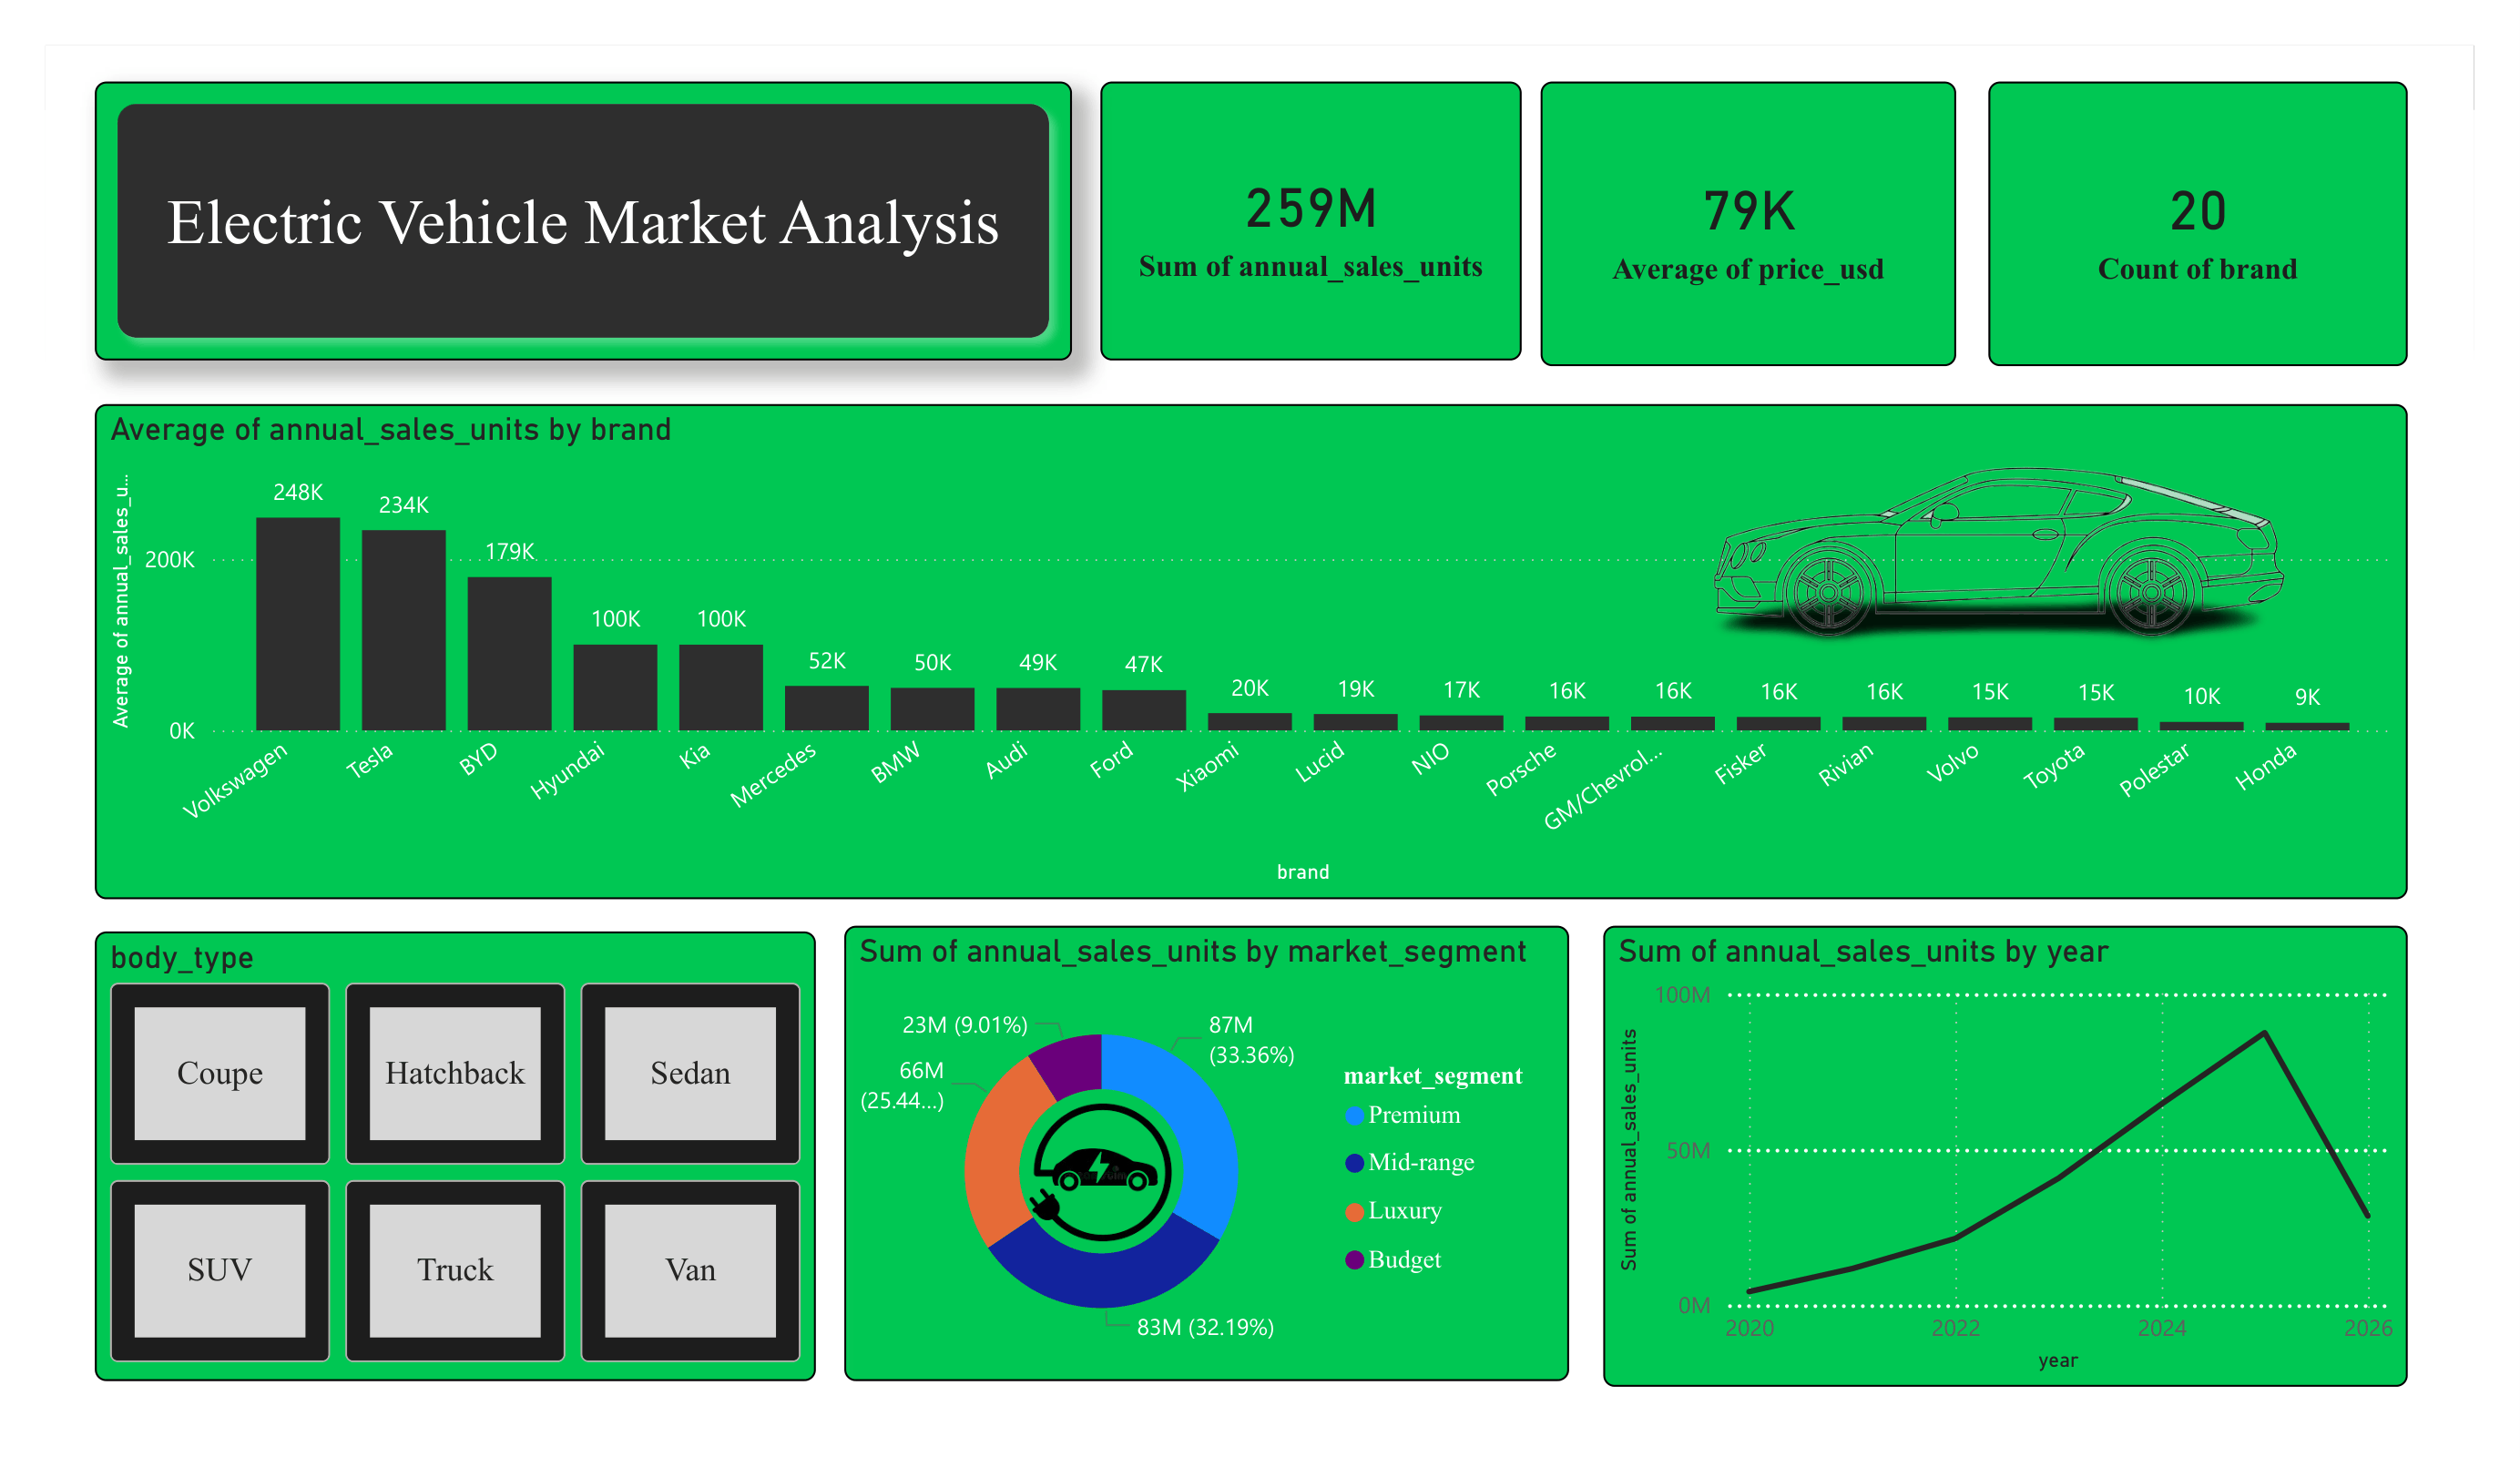

The page's visual inventory and layout, read from the dashboard file:
{"tool":"powerbi","page":{"name":"Page 1","canvas":[1280,720],"ordinal":0},"visuals":[{"type":"card","fields":{"Values":["Sum(ev_market_2026.annual_sales_units)"]},"box":[555.7,19.2,222.3,146.8],"z":0},{"type":"card","fields":{"Values":["Avg(ev_market_2026.price_usd)"]},"box":[787.7,19.2,219.6,149.6],"z":1000},{"type":"card","fields":{"Values":["Count(ev_market_2026.brand)"]},"box":[1023.7,19.2,220.9,149.6],"z":2000},{"type":"columnChart","fields":{"Y":["Avg(ev_market_2026.annual_sales_units)"],"Category":["ev_market_2026.brand"]},"box":[26.1,189.4,1218.5,260.7],"z":3000},{"type":"lineChart","fields":{"Y":["Sum(ev_market_2026.annual_sales_units)"],"Category":["ev_market_2026.year"]},"box":[820.6,463.8,424,242.9],"z":4000},{"type":"donutChart","fields":{"Category":["ev_market_2026.market_segment"],"Y":["Sum(ev_market_2026.annual_sales_units)"]},"box":[421.3,463.8,381.5,240.1],"z":5000},{"type":"advancedSlicerVisual","fields":{"Values":["ev_market_2026.body_type"]},"box":[26.1,466.6,380.1,237.4],"z":6000},{"type":"shape","box":[26.1,19.2,514.6,146.8],"z":7000},{"type":"image","box":[780.2,189.5,500.1,143.1],"z":8000},{"type":"image","box":[479,544.4,154.4,99.2],"z":10000}]}

Visuals, with their boxes in screenshot pixels (x1, y1, x2, y2):
card - Sum(ev_market_2026.annual_sales_units): bbox=[1113, 82, 1529, 357]
card - Avg(ev_market_2026.price_usd): bbox=[1547, 82, 1959, 362]
card - Count(ev_market_2026.brand): bbox=[1989, 82, 2403, 362]
columnChart - Avg(ev_market_2026.annual_sales_units) x ev_market_2026.brand: bbox=[121, 401, 2403, 889]
lineChart - Sum(ev_market_2026.annual_sales_units) x ev_market_2026.year: bbox=[1609, 914, 2403, 1370]
donutChart - ev_market_2026.market_segment x Sum(ev_market_2026.annual_sales_units): bbox=[862, 914, 1576, 1364]
advancedSlicerVisual - ev_market_2026.body_type: bbox=[121, 920, 833, 1364]
shape: bbox=[121, 82, 1085, 357]
image: bbox=[1534, 401, 2470, 668]
image: bbox=[969, 1065, 1259, 1251]
